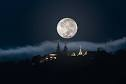moon: (55, 17, 78, 40)
